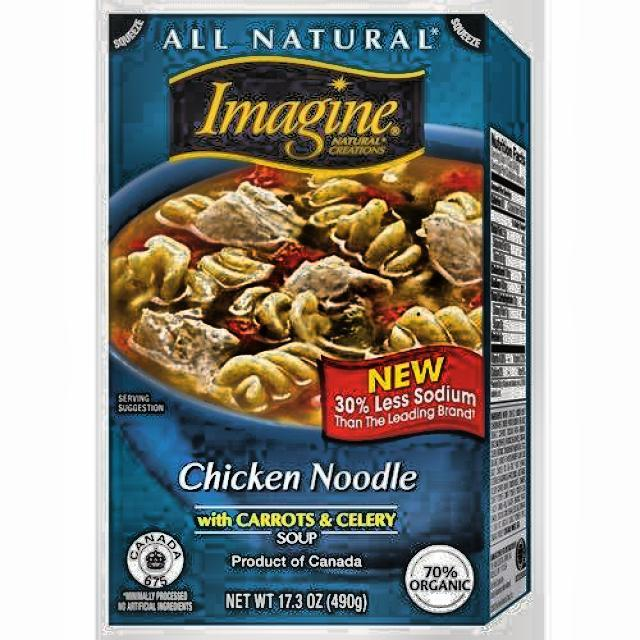cardboard: (106, 11, 532, 626)
